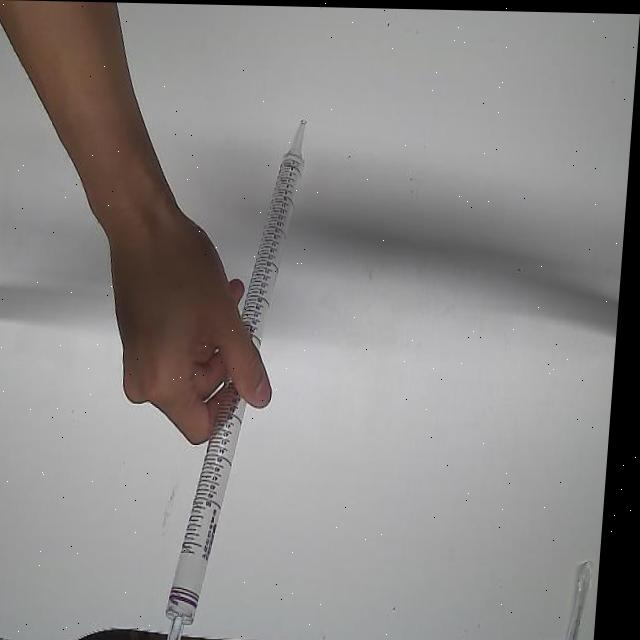Serelogical Pipet 50 mL: (168, 109, 318, 640)
